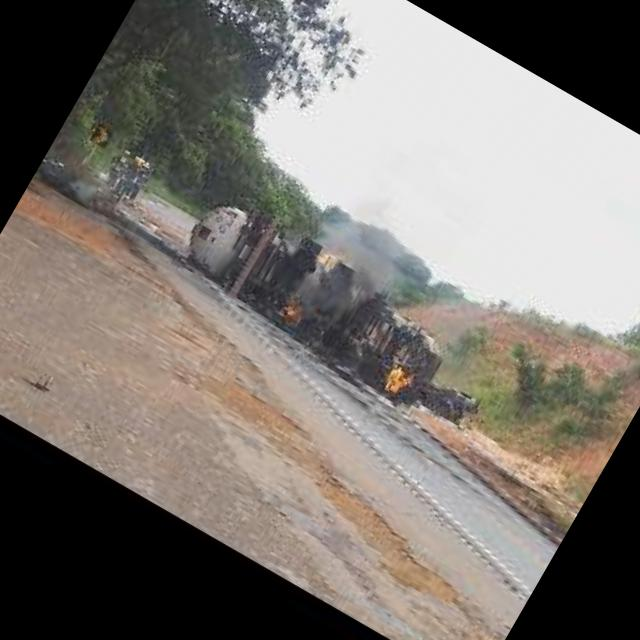fire: (382, 364, 417, 400), (285, 306, 301, 320)
smoke: (328, 191, 392, 306)
